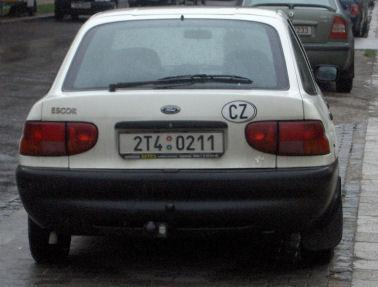placa de veiculo: (107, 119, 250, 168)
